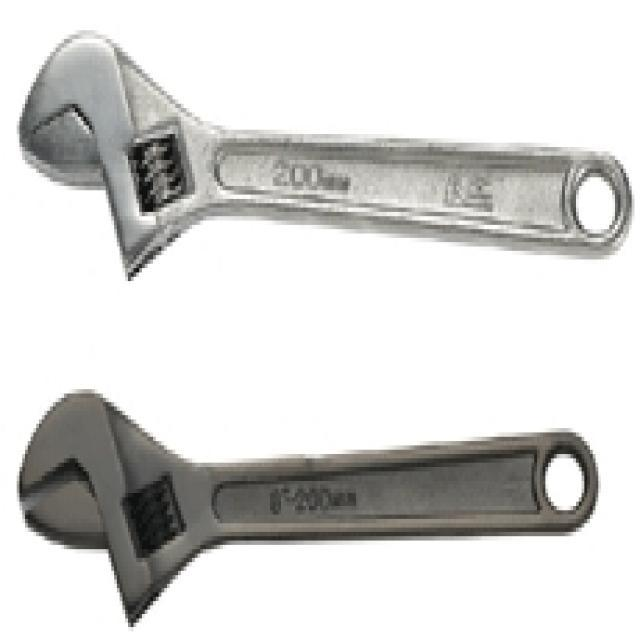wrench: (16, 22, 636, 290), (12, 384, 606, 636)
